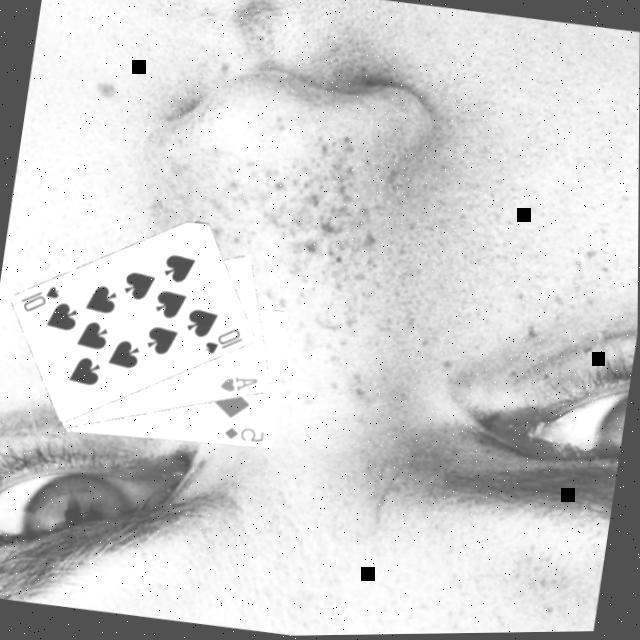10S: (15, 280, 62, 321), (200, 324, 248, 364)
5D: (220, 423, 268, 450)
AH: (215, 372, 261, 401)
